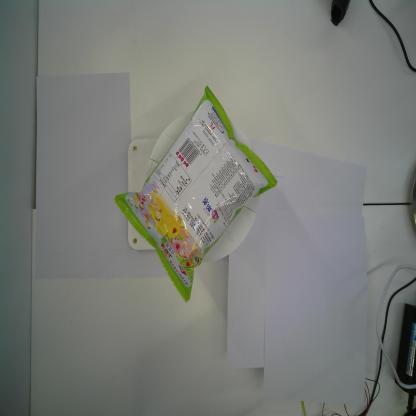Puffed Food: (113, 84, 278, 304)
